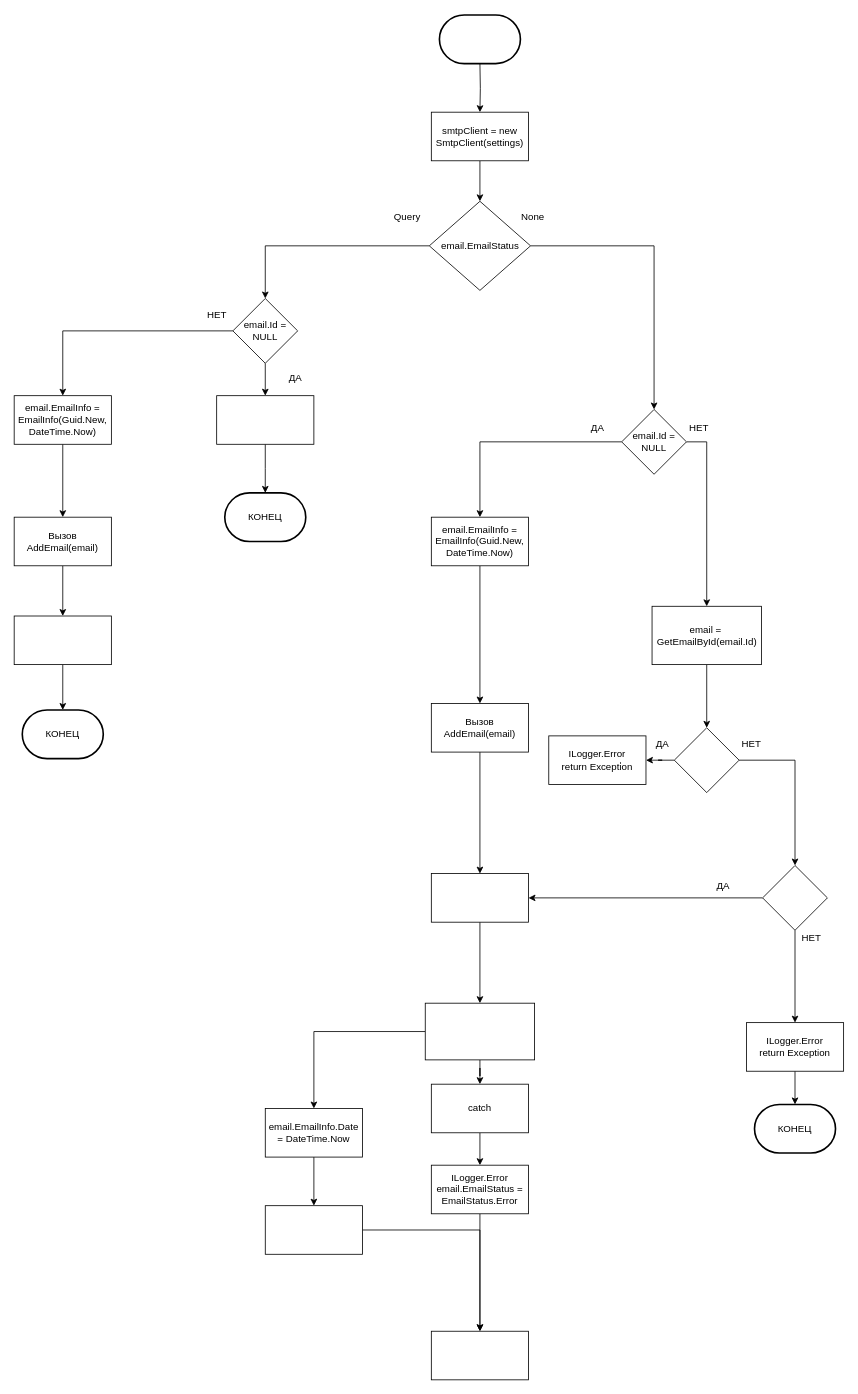
The diagram is 858 pixels wide and 1394 high, and some of its shapes have lost their labels. Each missing label, with the centre of its shape:
"email = NULL" belongs at [706,760].
"email.EmailStatus = EmailStatus.Sent" belongs at [313,1229].
"EmailStatus = Query" belongs at [794,897].
"ILogger.Error return email" belongs at [265,419].
"return email" belongs at [62,640].
"try" belongs at [480,897].
"Вызов smtpClient.Send(email) ILogger.Info" belongs at [479,1031].
"Вызов UpdateEmail(email) ILogger.Info" belongs at [480,1355].
"НАЧАЛО" belongs at [479,39].
